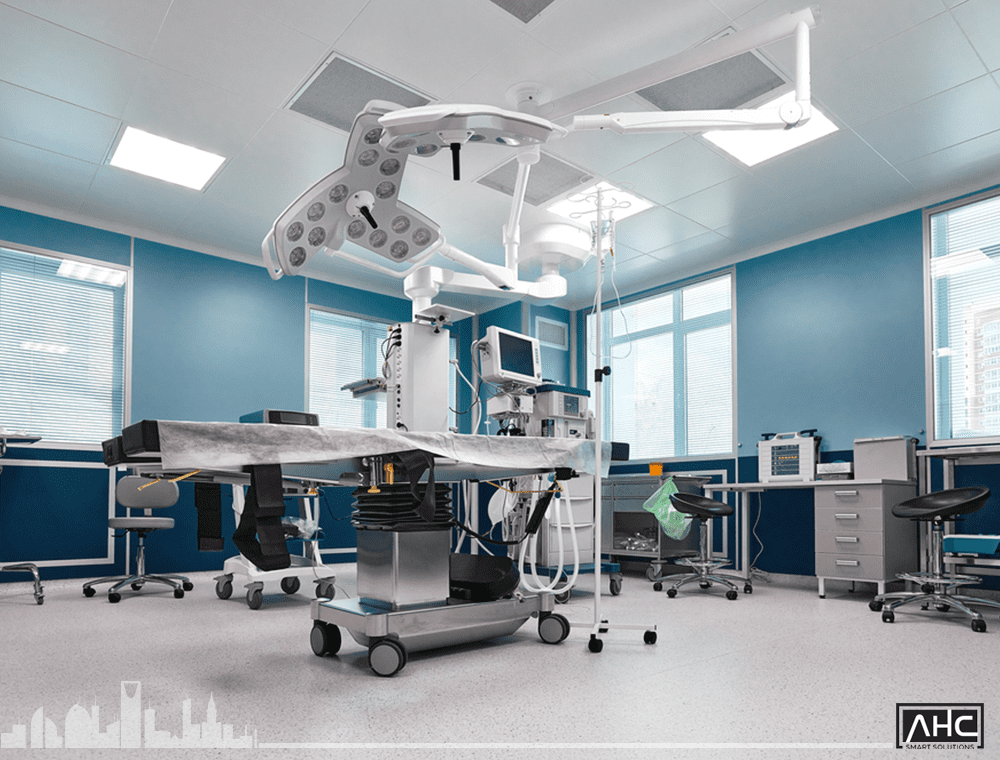bedside_monitor: (480, 325, 543, 387)
breathing_tube: (518, 474, 579, 595)
chair: (868, 486, 1000, 634), (83, 475, 194, 603), (653, 492, 752, 600)
electrosurgical_unit: (239, 408, 319, 426)
handle: (835, 559, 861, 570), (833, 535, 860, 545), (834, 488, 859, 498), (833, 513, 860, 522)
iv_pole: (566, 180, 640, 465)
medical_drawer: (593, 474, 712, 581)
operating_bed: (102, 418, 629, 677)
surgical_light: (262, 98, 449, 280), (374, 104, 556, 159)
table: (703, 478, 917, 598)
ventilator: (508, 384, 623, 605)
